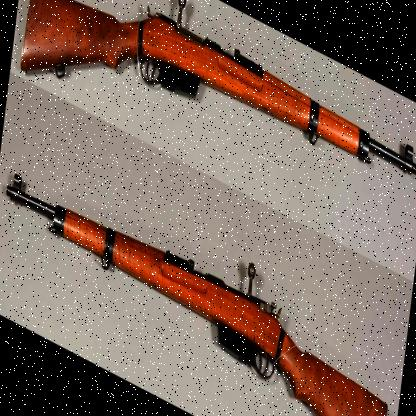rifle: (0, 140, 401, 416), (16, 0, 416, 266)
